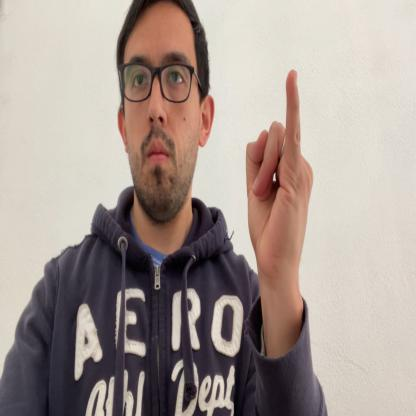I: (245, 69, 314, 294)
